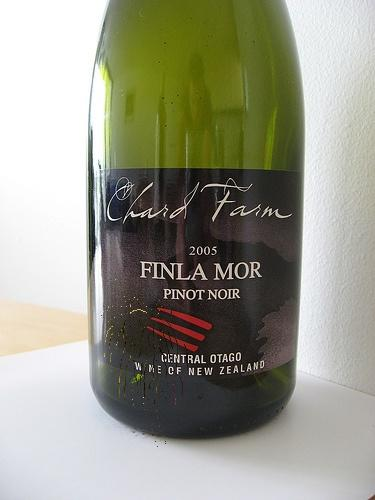tampered: (102, 280, 188, 448)
